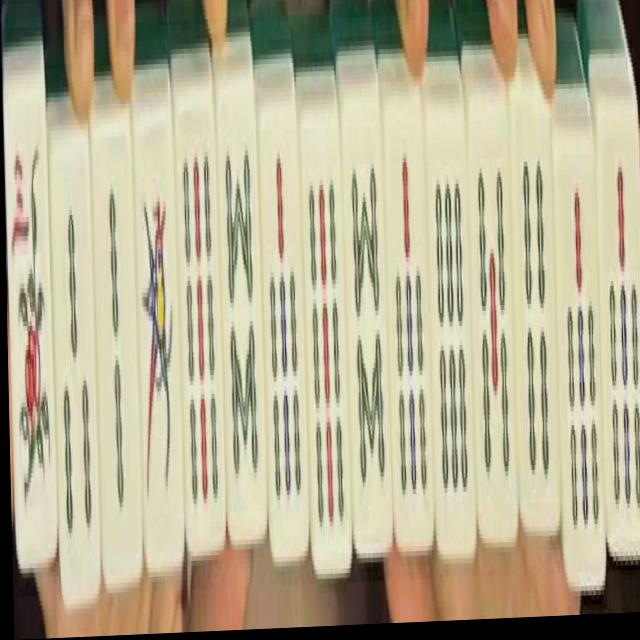ff3: (6, 109, 55, 541)
s1: (135, 135, 181, 554)
s2: (96, 149, 141, 589)
s3: (53, 150, 100, 591)
s4: (512, 118, 560, 520)
s5: (471, 124, 517, 529)
s6: (429, 118, 476, 540)
s7: (556, 155, 605, 570), (386, 131, 433, 537), (263, 129, 308, 542), (599, 122, 640, 528)
s8: (343, 117, 394, 536), (219, 127, 263, 524)
s9: (178, 121, 225, 532), (302, 151, 349, 547)
